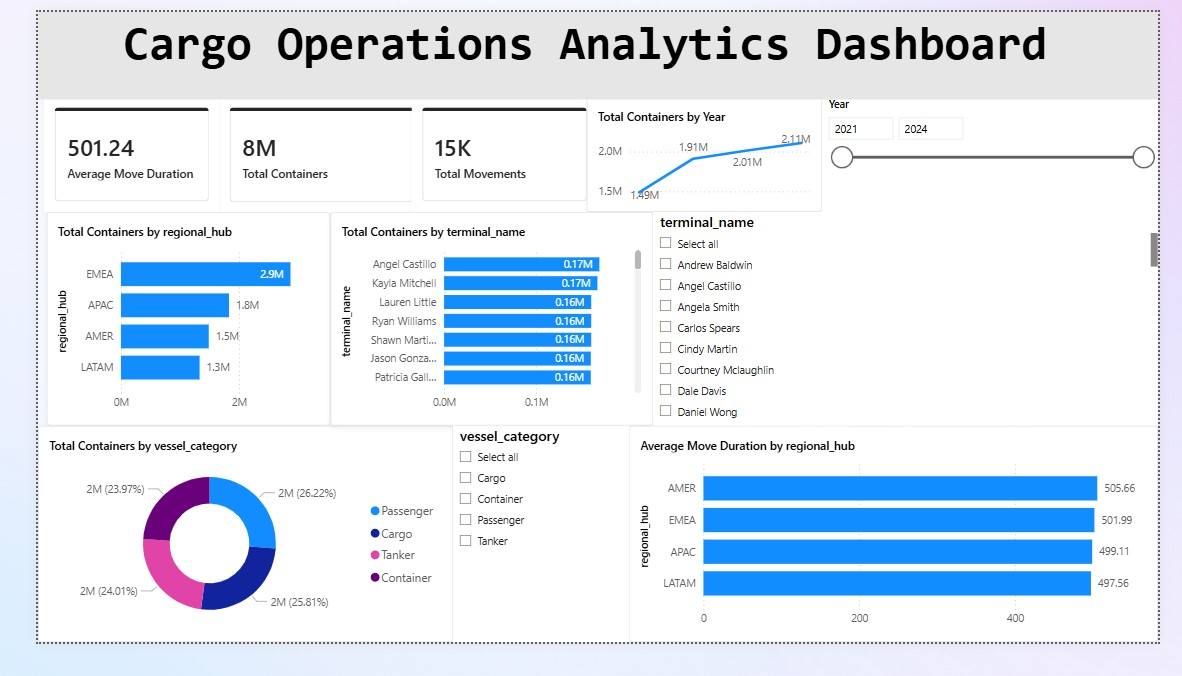

Layout of this report page (visuals, bound fields, positions):
{"tool":"powerbi","page":{"name":"Executive Summary ","canvas":[1280,720],"ordinal":0},"visuals":[{"type":"cardVisual","fields":{"Data":["dim_terminal.Total Containers"]},"box":[207.1,97.1,240,132.9],"z":0},{"type":"cardVisual","fields":{"Data":["dim_terminal.Total Movements"]},"box":[427.1,97.1,212.9,131.4],"z":1000},{"type":"cardVisual","fields":{"Data":["dim_terminal.Average Move Duration"]},"box":[7.2,97.7,200.3,131.5],"z":2000},{"type":"clusteredBarChart","fields":{"Category":["dim_terminal.regional_hub"],"Y":["dim_terminal.Total Containers"]},"box":[10,228.6,324.3,244.3],"z":3000},{"type":"lineChart","fields":{"Category":["dim_time.date_id.Variation.Date Hierarchy.Year","dim_time.date_id.Variation.Date Hierarchy.Quarter","dim_time.date_id.Variation.Date Hierarchy.Month","dim_time.date_id.Variation.Date Hierarchy.Day"],"Y":["dim_terminal.Total Containers"]},"box":[627.1,97.1,268.6,131.4],"z":4000},{"type":"donutChart","fields":{"Category":["dim_vessel.vessel_category"],"Y":["dim_terminal.Total Containers"]},"box":[0,472.9,474.3,247.1],"z":5000},{"type":"clusteredBarChart","fields":{"Category":["dim_terminal.terminal_name"],"Y":["dim_terminal.Total Containers"]},"box":[334.3,228.6,368.6,244.3],"z":6000},{"type":"clusteredBarChart","fields":{"Category":["dim_terminal.regional_hub"],"Y":["dim_terminal.Average Move Duration"]},"box":[675.7,472.9,604.3,247.1],"z":7000},{"type":"slicer","fields":{"Values":["dim_time.date_id.Variation.Date Hierarchy.Year"]},"box":[895.7,97.1,384.3,132.9],"z":8000},{"type":"slicer","fields":{"Values":["dim_terminal.terminal_name"]},"box":[702.9,228.6,577.1,244.3],"z":9000},{"type":"slicer","fields":{"Values":["dim_vessel.vessel_category"]},"box":[474.3,472.9,201.4,247.1],"z":10000},{"type":"textbox","box":[0,0,1280,100],"z":11001}]}

Visuals, with their boxes in screenshot pixels (x1, y1, x2, y2), scaled from the page's 1280x720 canvas onto the 1182x676 screenshot:
cardVisual - dim_terminal.Total Containers: pyautogui.locateOnScreen(191, 91, 413, 216)
cardVisual - dim_terminal.Total Movements: pyautogui.locateOnScreen(394, 91, 591, 215)
cardVisual - dim_terminal.Average Move Duration: pyautogui.locateOnScreen(7, 92, 192, 215)
clusteredBarChart - dim_terminal.regional_hub x dim_terminal.Total Containers: pyautogui.locateOnScreen(9, 215, 309, 444)
lineChart - dim_time.date_id.Variation.Date Hierarchy.Year x dim_time.date_id.Variation.Date Hierarchy.Quarter: pyautogui.locateOnScreen(579, 91, 827, 215)
donutChart - dim_vessel.vessel_category x dim_terminal.Total Containers: pyautogui.locateOnScreen(0, 444, 438, 675)
clusteredBarChart - dim_terminal.terminal_name x dim_terminal.Total Containers: pyautogui.locateOnScreen(309, 215, 649, 444)
clusteredBarChart - dim_terminal.regional_hub x dim_terminal.Average Move Duration: pyautogui.locateOnScreen(624, 444, 1181, 675)
slicer - dim_time.date_id.Variation.Date Hierarchy.Year: pyautogui.locateOnScreen(827, 91, 1181, 216)
slicer - dim_terminal.terminal_name: pyautogui.locateOnScreen(649, 215, 1181, 444)
slicer - dim_vessel.vessel_category: pyautogui.locateOnScreen(438, 444, 624, 675)
textbox: pyautogui.locateOnScreen(0, 0, 1181, 94)
